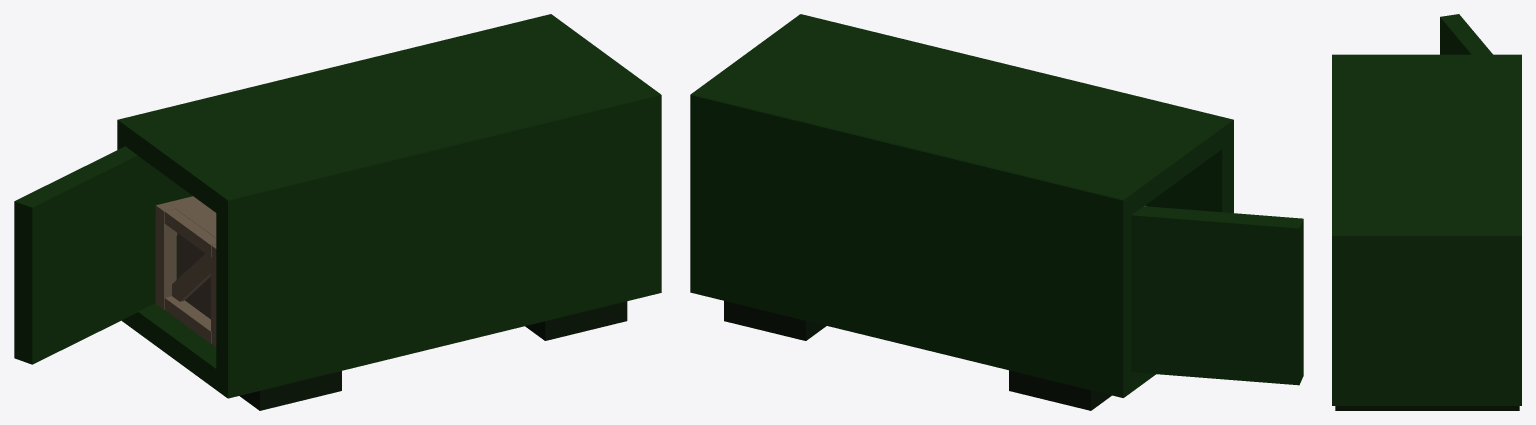
File: container1.fbx
The picture shows the model from 3 angles, left to right: view 1: azimuth 30°, elevation 25°; view 2: azimuth 150°, elevation 25°; view 3: azimuth 270°, elevation 25°; orthographic projection. The views are drawn at different scales.
Visible parts, largest first — view 1: Cube.076, Cube.072, Cube.073, Cube.070, Cube.079, Cube.080, Cube.085, Cube.081, Cube.071, Cube.088, Cube.089, Cube.095 (+2 smaller); view 2: Cube.071, Cube.072, Cube.073, Cube.076, Cube.079, Cube.080; view 3: Cube.072, Cube.078, Cube.071, Cube.070, Cube.073, Cube.076, Cube.080.
Boxes of the visible parts, box(x1,y1,x2,y2) form: Cube.076: box(216, 94, 661, 398); Cube.072: box(118, 14, 660, 220); Cube.073: box(14, 146, 159, 364); Cube.070: box(121, 303, 226, 397); Cube.079: box(240, 371, 341, 410); Cube.080: box(525, 301, 627, 340); Cube.085: box(155, 202, 176, 309); Cube.081: box(177, 233, 210, 318); Cube.071: box(117, 14, 550, 279); Cube.088: box(164, 209, 216, 257); Cube.089: box(164, 296, 211, 343); Cube.095: box(172, 253, 210, 301); Cube.071: box(690, 94, 1134, 397); Cube.072: box(691, 14, 1232, 220); Cube.073: box(1131, 206, 1303, 385); Cube.076: box(800, 14, 1233, 213); Cube.079: box(1009, 370, 1111, 410); Cube.080: box(724, 301, 826, 340); Cube.072: box(1333, 54, 1520, 254); Cube.078: box(1334, 254, 1502, 388); Cube.071: box(1502, 54, 1521, 405); Cube.070: box(1333, 388, 1520, 405); Cube.073: box(1440, 14, 1492, 54); Cube.076: box(1332, 54, 1351, 405); Cube.080: box(1335, 406, 1519, 410).
Bounding box in the file's own units: 5595 × 2050 × 1870.
